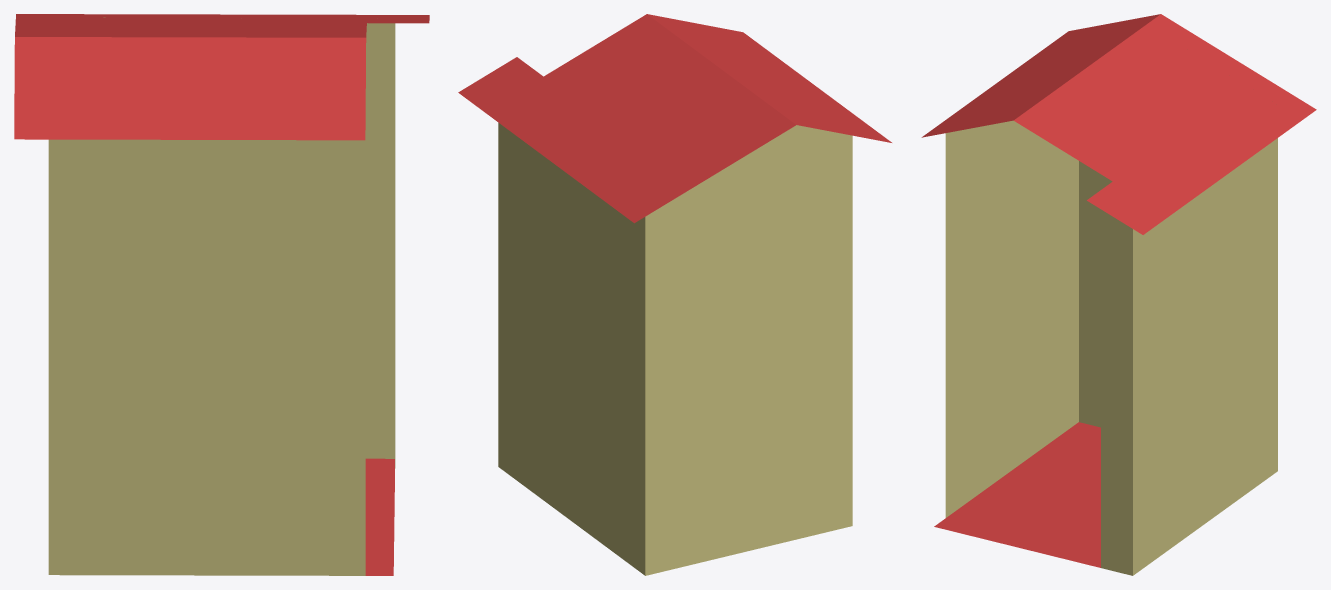
3 views of the same model, side by side, from view 1: azimuth 30°, elevation 25°; view 2: azimuth 150°, elevation 25°; view 3: azimuth 270°, elevation 25° (orthographic). The views are drawn at different scales.
Size of the model in its own units: 7.75 by 6.93 by 8.01.
